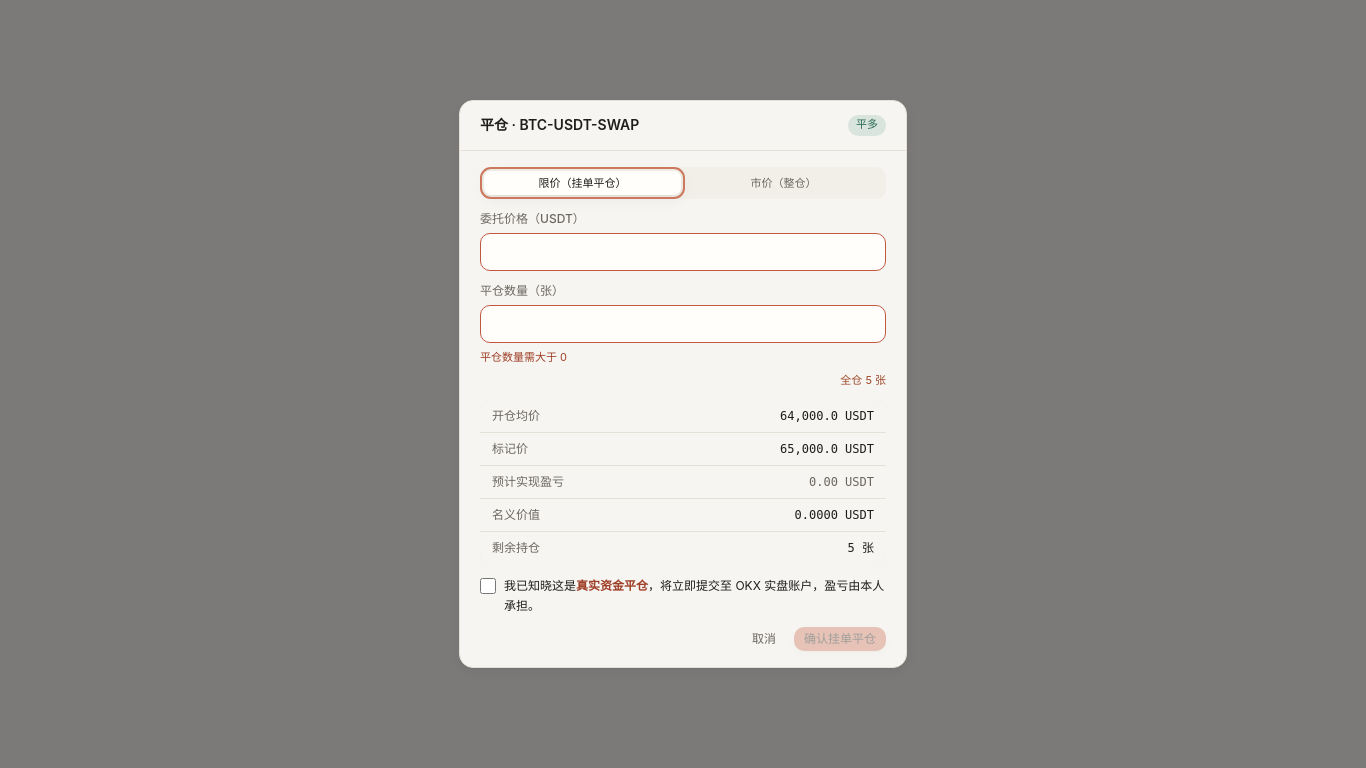
Test: ClosePositionModal › locks the quantity input in market (整仓) mode to the full position
Step 1. Click the button "市价（整仓）" → (784, 183), box [685,170,882,195]
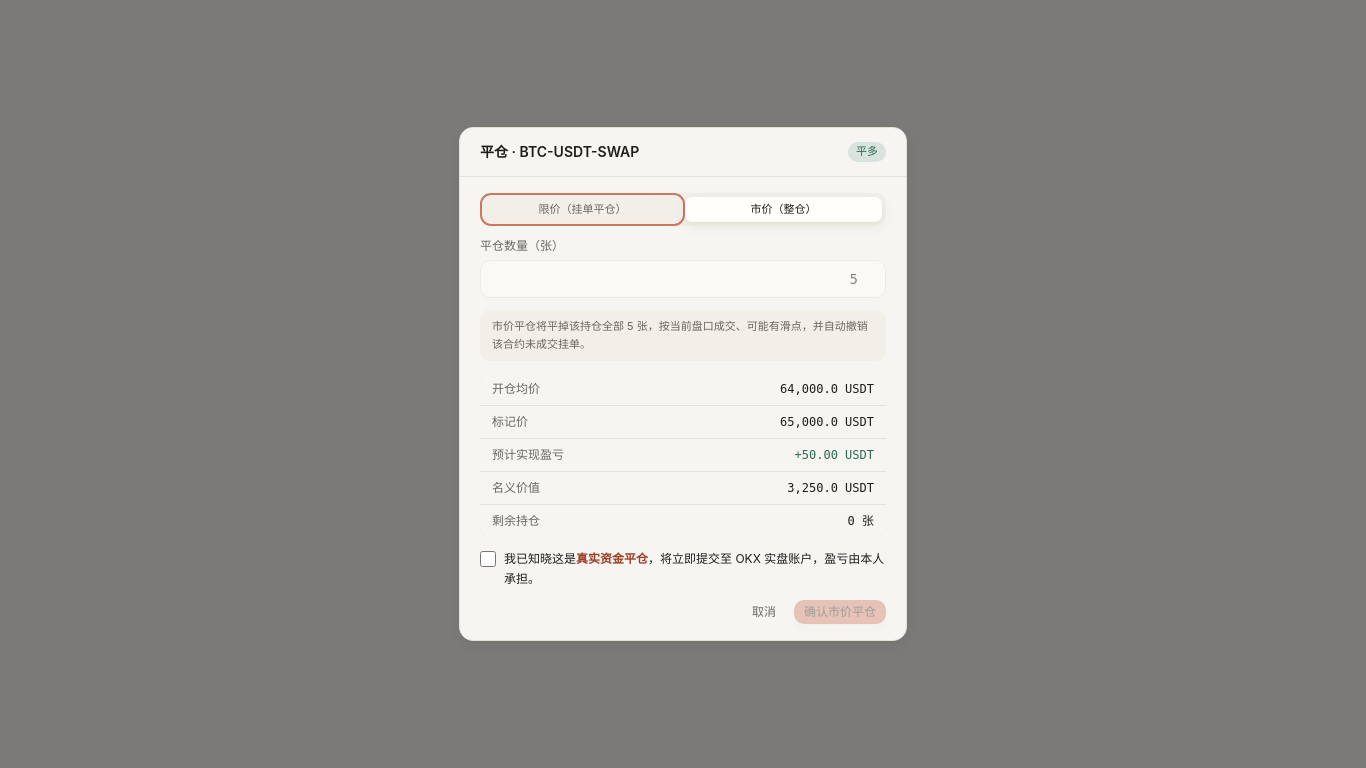
Check: the number field labelled "平仓数量（张）" is disabled, box [480,260,886,298]
Check: the number field labelled "平仓数量（张）" holds "5", box [480,260,886,298]
